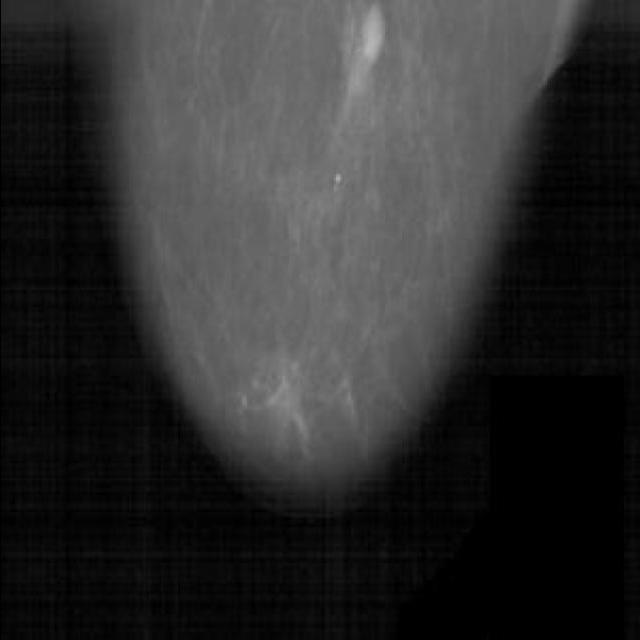tumor: (325, 6, 415, 124), (237, 354, 337, 457)
